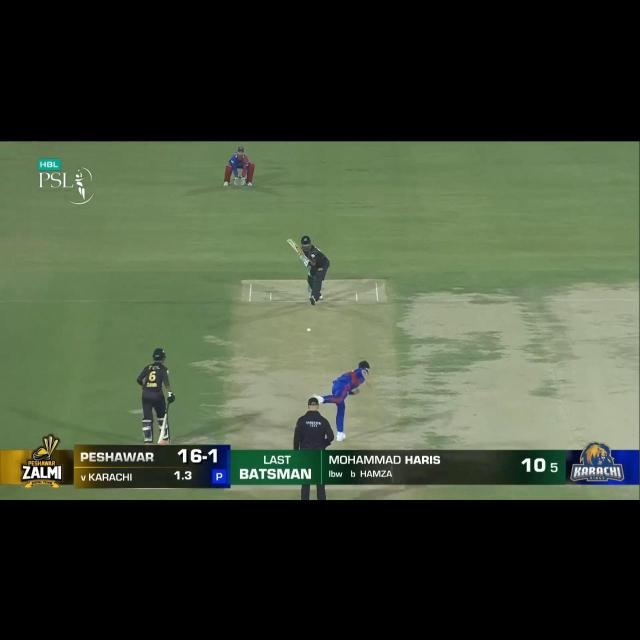bat: (286, 238, 310, 264), (158, 414, 169, 446)
toe: (286, 237, 295, 245), (156, 438, 164, 443)
